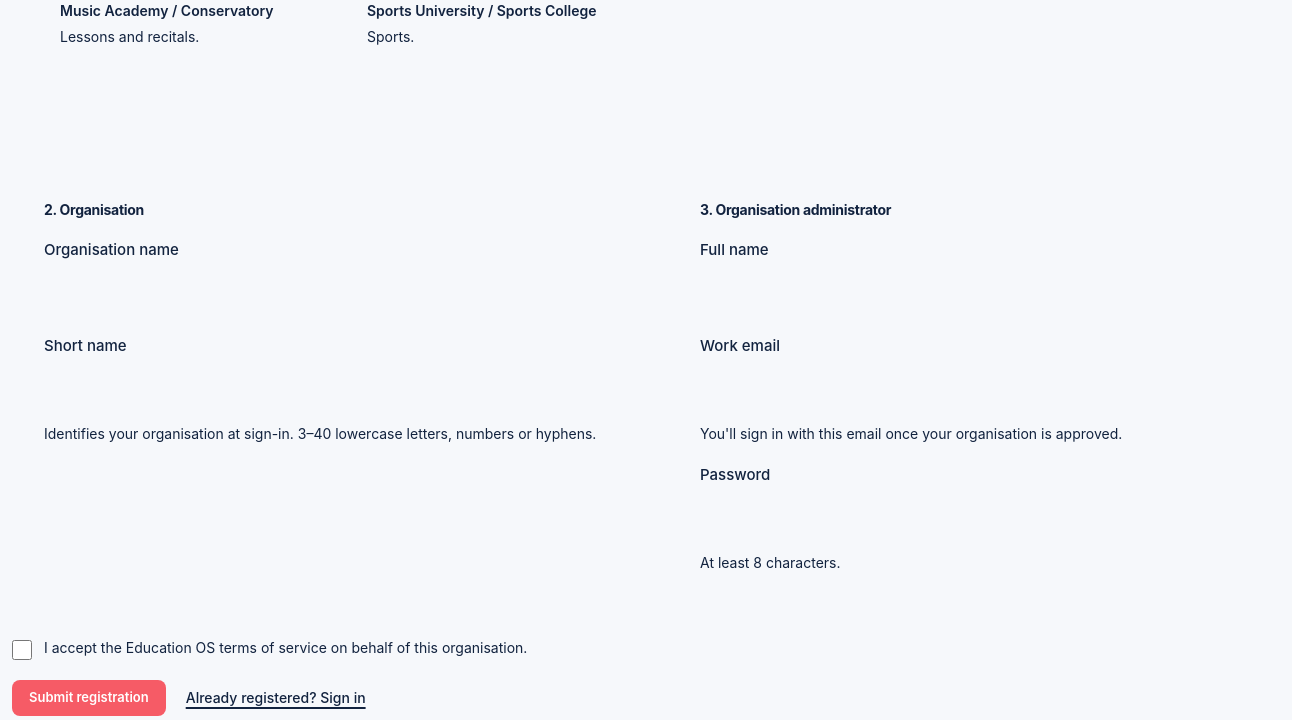
Scenario: RegisterPage: the form › does not submit an invalid form: shows every error and focuses the package picker first
(page scrolled)
Expected: the radio button labelled "Sports University / Sports College Sports." is shown, 367,2 -> 625,45
What coordinates should you click on to do the following:
click the button "Submit registration"
I would click on:
 (89, 698)
Its box is 12,680 -> 166,716.
(page scrolled)
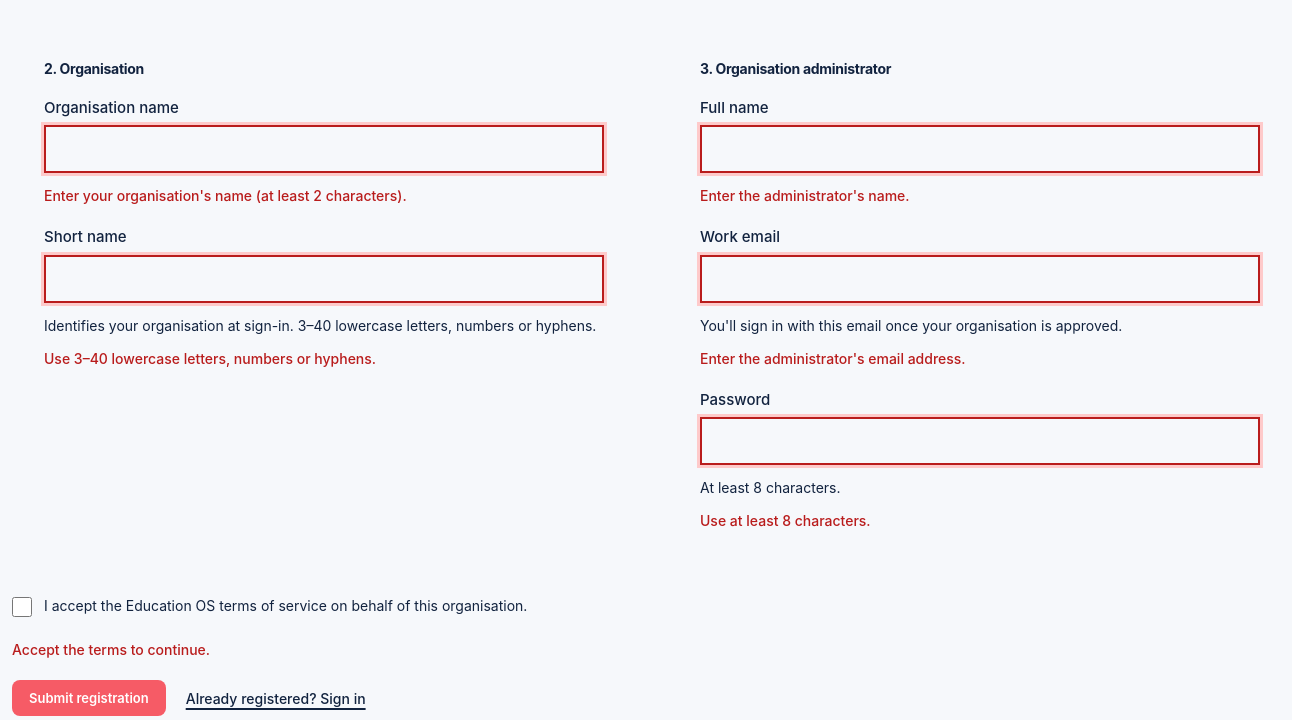
Expected: the text "Accept the terms to continue." is shown, 12,641 -> 210,658
